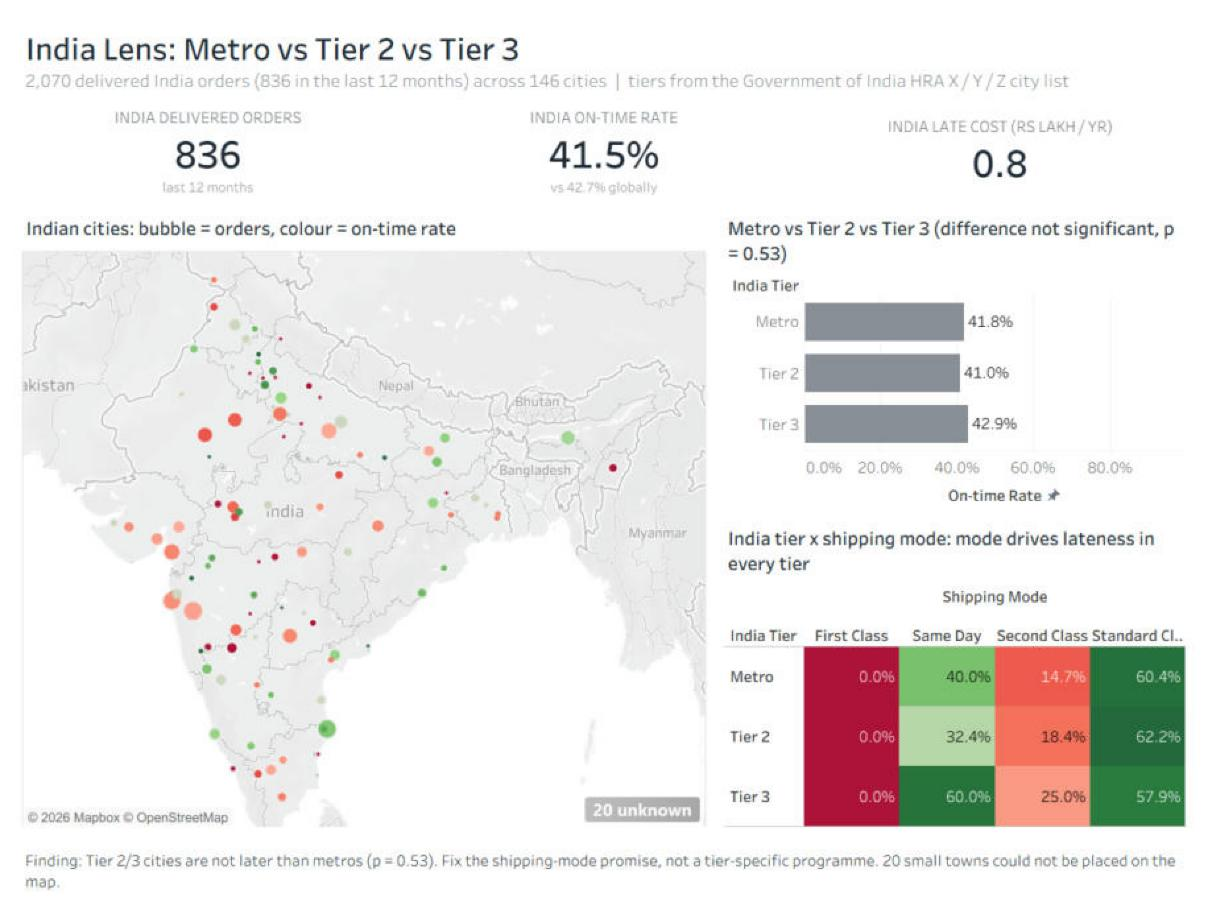

What the dashboard file says about the page in this screenshot:
{"tool":"tableau","page":{"name":"India Lens","canvas":[1200,900],"ordinal":1},"visuals":[{"type":"text","box":[18,5.4,1164,75.6]},{"type":"worksheet","title":"India KPI Orders","mark":"Text","box":[18,84.6,372,99]},{"type":"worksheet","title":"India KPI On-time","mark":"Text","box":[414,84.6,372,99]},{"type":"worksheet","title":"India KPI Cost","mark":"Text","box":[810,84.6,372,99]},{"type":"worksheet","title":"India City Map","mark":"Circle","box":[18,193.5,684,616.5]},{"type":"worksheet","title":"India Tiers","mark":"Bar","rows":["India Tier"],"cols":["Calculation_9100"],"box":[720,193.5,462,301.5]},{"type":"worksheet","title":"India Tier x Mode","mark":"Square","rows":["India Tier"],"cols":["Shipping Mode"],"box":[720,504,462,306]},{"type":"text","box":[18,814.5,1164,76.5]}]}

Visuals, with their boxes in screenshot pixels (x1, y1, x2, y2), scaled from the page's 1200x900 canvas onto the 1208x910 screenshot:
text: bbox=(18, 5, 1190, 82)
"India KPI Orders" worksheet (Text marks): bbox=(18, 86, 393, 186)
"India KPI On-time" worksheet (Text marks): bbox=(417, 86, 791, 186)
"India KPI Cost" worksheet (Text marks): bbox=(815, 86, 1190, 186)
"India City Map" worksheet (Circle marks): bbox=(18, 196, 707, 819)
"India Tiers" worksheet (Bar marks): bbox=(725, 196, 1190, 500)
"India Tier x Mode" worksheet (Square marks): bbox=(725, 510, 1190, 819)
text: bbox=(18, 824, 1190, 901)
